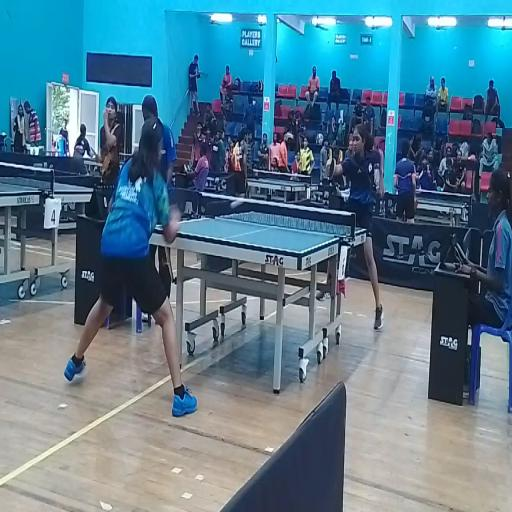ball: (230, 196, 244, 209)
